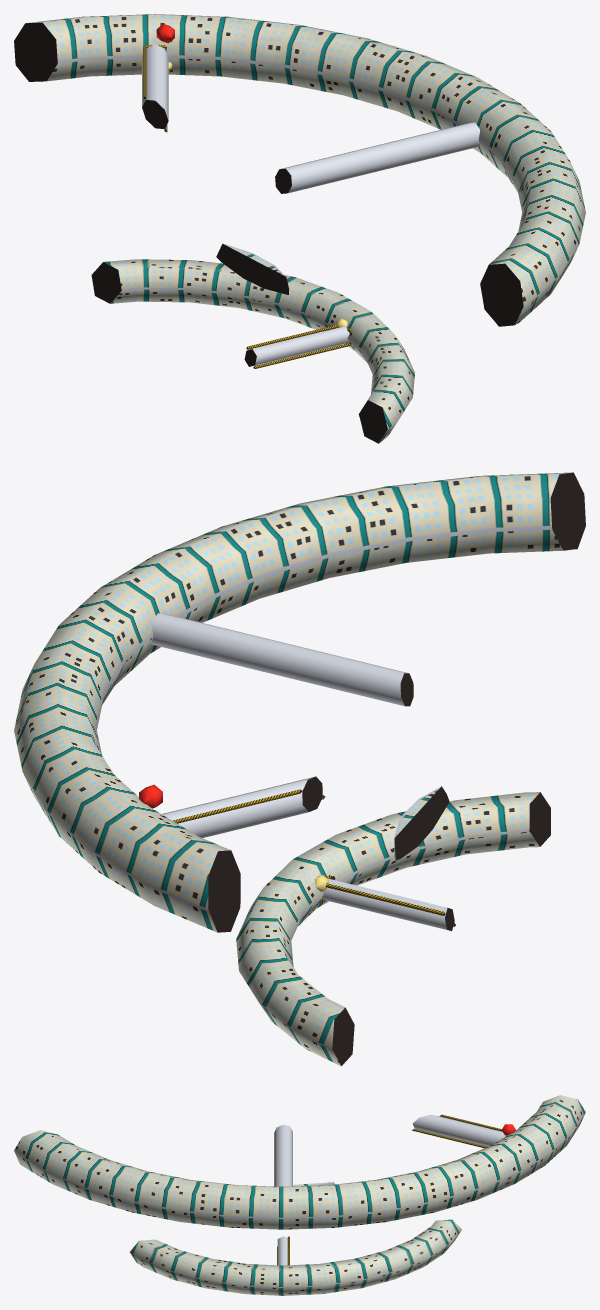
Rendered from research_station_build3_debris1.obj.
3 renders of one model, top to bottom at view 1: azimuth 30°, elevation 25°; view 2: azimuth 150°, elevation 25°; view 3: azimuth 270°, elevation 25°, orthographic. The views are drawn at different scales.
Parts seen in each view (by area): view 1: lab_ring, lab_ring2, spoke, spoke2, hub, post; view 2: lab_ring, lab_ring2, spoke, spoke2, hub, post; view 3: lab_ring, lab_ring2, spoke, post, spoke2.
Boxes of the visible parts, <box> form: lab_ring: <box>14,14,585,326</box>; lab_ring2: <box>91,259,414,443</box>; spoke: <box>142,44,480,193</box>; spoke2: <box>244,326,349,366</box>; hub: <box>216,243,288,294</box>; post: <box>143,45,350,368</box>; lab_ring: <box>14,472,585,932</box>; lab_ring2: <box>236,792,550,1066</box>; spoke: <box>151,613,413,837</box>; spoke2: <box>321,878,454,931</box>; hub: <box>394,786,449,860</box>; post: <box>172,789,455,926</box>; lab_ring: <box>14,1095,585,1229</box>; lab_ring2: <box>129,1219,461,1295</box>; spoke: <box>274,1114,506,1186</box>; post: <box>277,1114,502,1265</box>; spoke2: <box>277,1236,287,1265</box>.
Bounding box in the file's own units: 68.14 × 44.87 × 150.
Materials: 6 (2 with a texture image).
